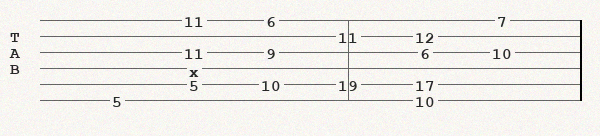10: (261, 77, 285, 91), (415, 93, 439, 107), (492, 45, 516, 59)
11: (184, 45, 208, 59), (184, 13, 208, 27), (338, 29, 362, 43)
12: (415, 29, 439, 43)
17: (415, 77, 439, 91)
19: (338, 77, 362, 91)
5: (112, 93, 126, 107), (189, 77, 203, 91)
6: (266, 13, 280, 27), (420, 45, 434, 59)
7: (497, 13, 511, 27)
9: (266, 45, 280, 59)
x: (189, 63, 203, 74)
